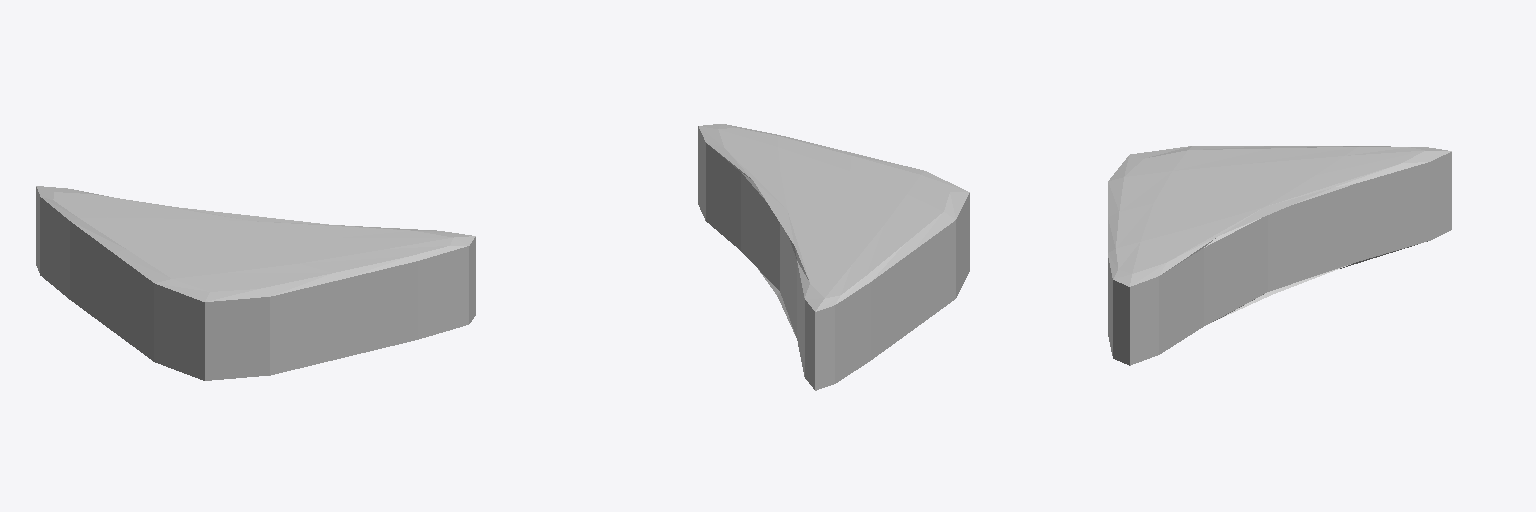
The model's file is triangle.obj.
The picture shows the model from 3 angles: view 1: azimuth 30°, elevation 25°; view 2: azimuth 150°, elevation 25°; view 3: azimuth 270°, elevation 25°; orthographic projection.
Parts seen in each view (by area): view 1: pCube2; view 2: pCube2; view 3: pCube2.
Boxes of the visible parts, <box> form: pCube2: <box>36,186,475,380</box>; pCube2: <box>698,124,969,390</box>; pCube2: <box>1108,146,1451,365</box>.
Size of the model in its own units: 0.4815 by 0.1375 by 0.4965.